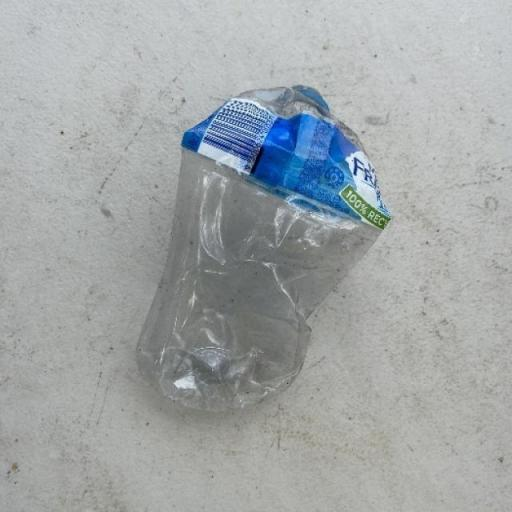plastic: (135, 83, 393, 412)
